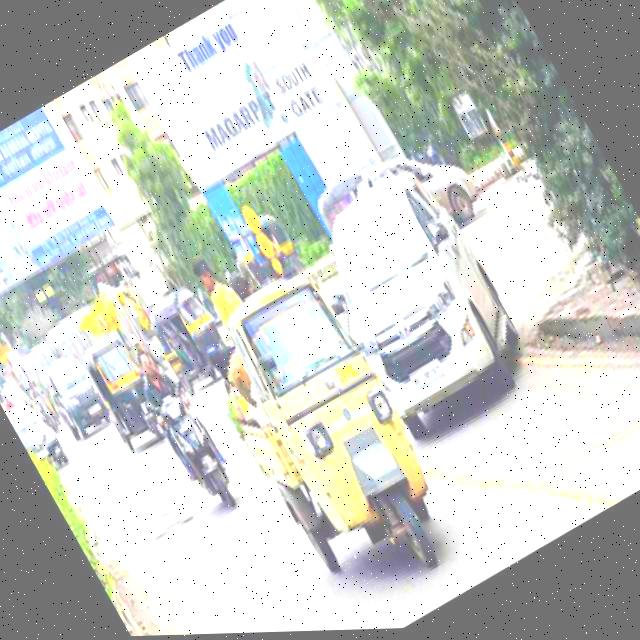license_plate: (408, 358, 441, 388), (330, 359, 356, 385)
